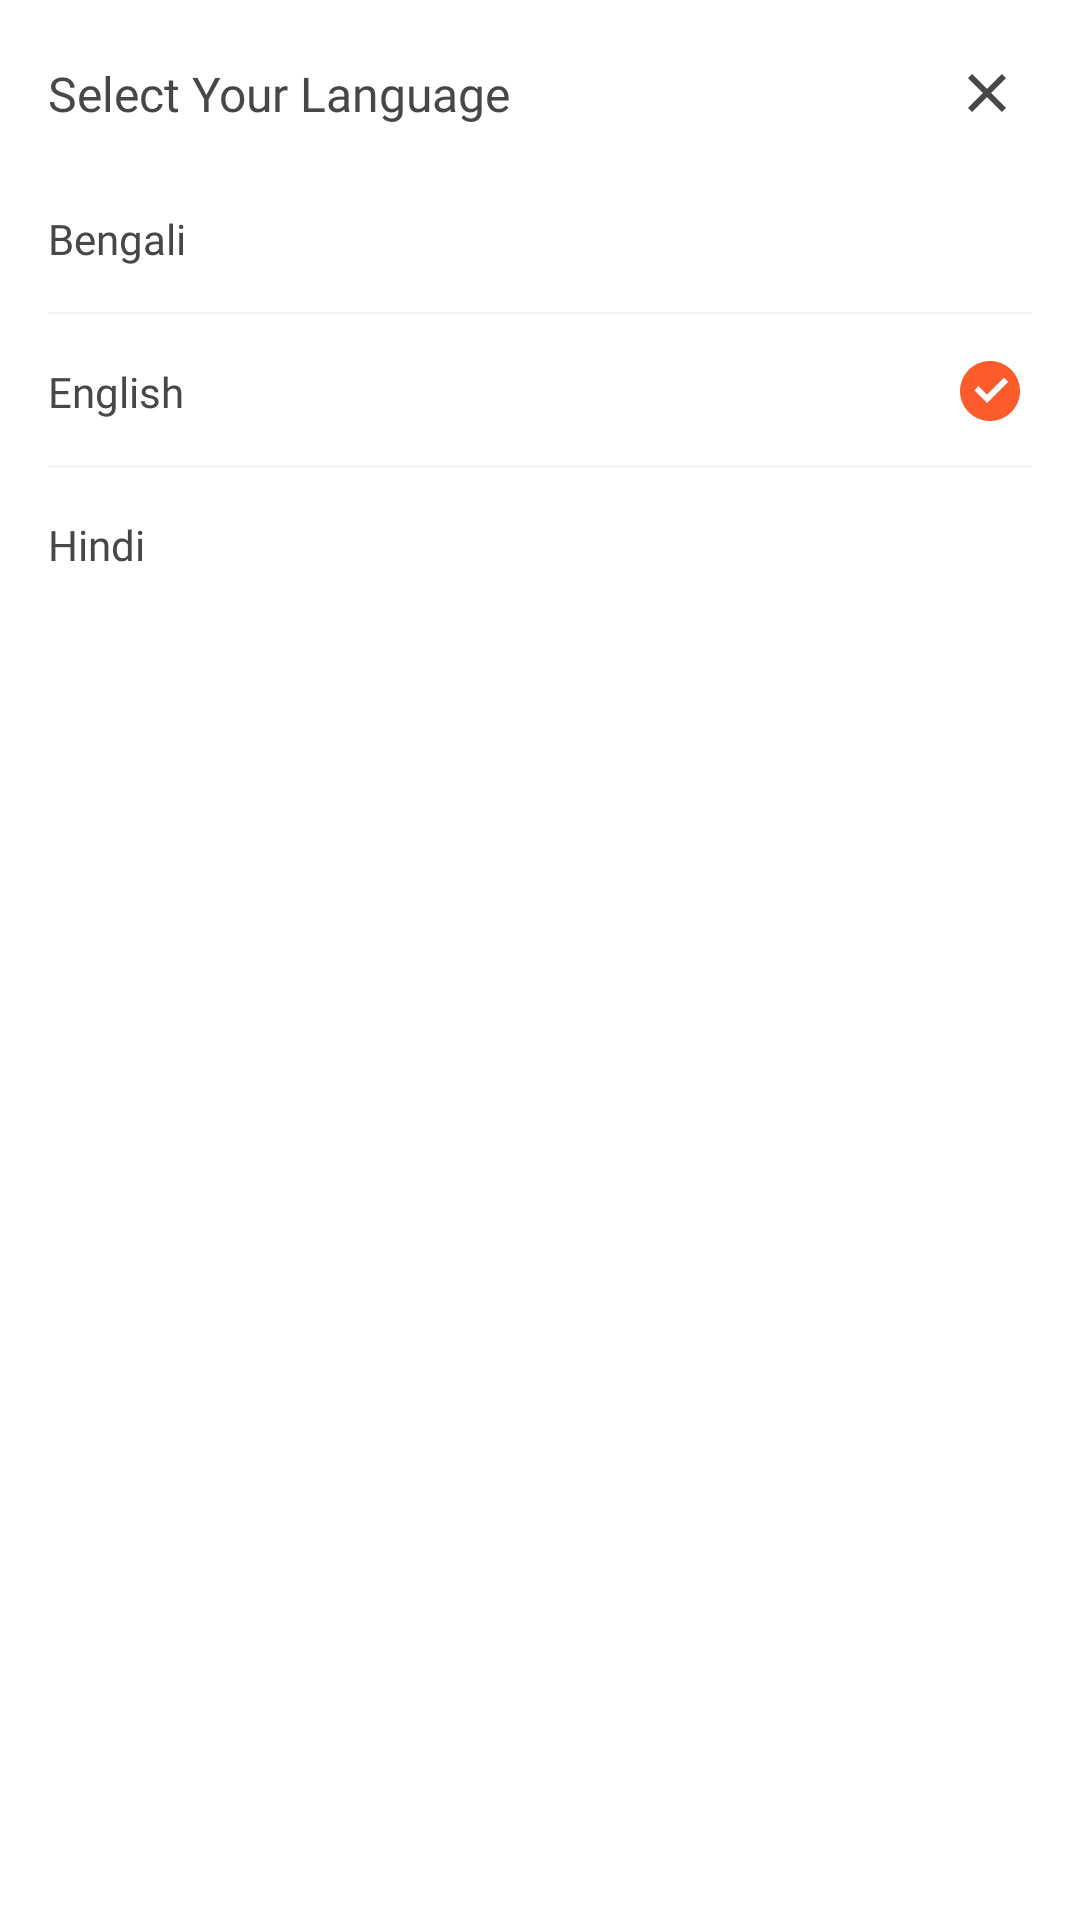

Named icons in this screenshot (1080x1920) and their bounding boxes, (x1, y1, x2, y2):
close: (968, 74, 1006, 112)
